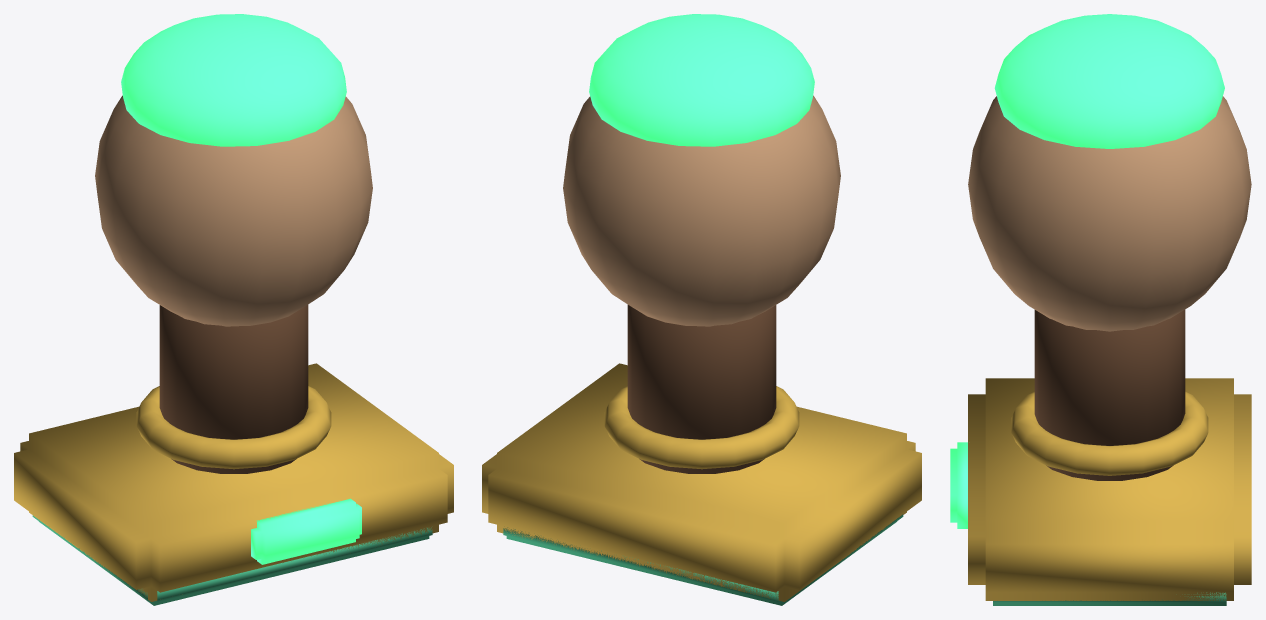
File: Doc_Stamp_Approve.fbx
3 renders of one model, left to right at view 1: azimuth 30°, elevation 25°; view 2: azimuth 150°, elevation 25°; view 3: azimuth 270°, elevation 25°, orthographic.
Parts seen in each view (by area): view 1: Stamp_Mat_Brass, Stamp_Mat_WarmWood, Stamp_Mat_StatusGreen, Stamp_Mat_DarkWood, Stamp_Mat_Tester_Mint; view 2: Stamp_Mat_Brass, Stamp_Mat_WarmWood, Stamp_Mat_StatusGreen, Stamp_Mat_DarkWood, Stamp_Mat_Tester_Mint; view 3: Stamp_Mat_Brass, Stamp_Mat_WarmWood, Stamp_Mat_StatusGreen, Stamp_Mat_DarkWood, Stamp_Mat_Tester_Mint.
Part boxes in pixels (x1,y1,x2,y2): Stamp_Mat_Brass: (14,363,453,601); Stamp_Mat_WarmWood: (95,95,372,326); Stamp_Mat_StatusGreen: (121,14,361,564); Stamp_Mat_DarkWood: (159,305,308,473); Stamp_Mat_Tester_Mint: (32,515,432,605); Stamp_Mat_Brass: (482,363,921,601); Stamp_Mat_WarmWood: (563,95,840,326); Stamp_Mat_StatusGreen: (589,14,814,146); Stamp_Mat_DarkWood: (627,305,776,473); Stamp_Mat_Tester_Mint: (503,514,903,605); Stamp_Mat_Brass: (968,378,1251,600); Stamp_Mat_WarmWood: (968,96,1251,331); Stamp_Mat_StatusGreen: (950,14,1224,528); Stamp_Mat_DarkWood: (1034,309,1185,480); Stamp_Mat_Tester_Mint: (993,592,1226,605).
Size of the model in its own units: 4.2 by 6.3 by 3.4.
